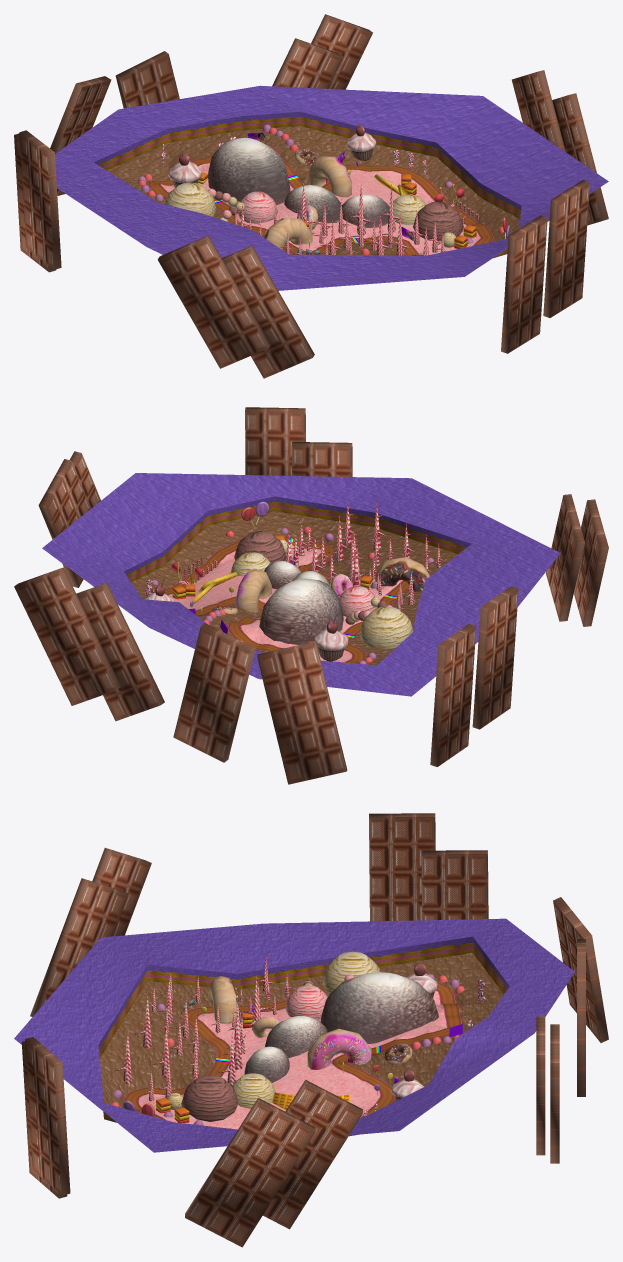
The picture shows the model from 3 angles, top to bottom: view 1: azimuth 30°, elevation 25°; view 2: azimuth 150°, elevation 25°; view 3: azimuth 270°, elevation 25°; orthographic projection. The views are drawn at different scales.
Parts seen in each view (by area): view 1: Schokolade, GlasurBlau, FlaecheAussen, _2b10d930, KuchenWand, Pink2, f8a1604b, Strasse, EisVanille, EisSchoko, DonutPink, Donut (+3 smaller); view 2: Schokolade, GlasurBlau, FlaecheAussen, _2b10d930, KuchenWand, f8a1604b, Pink2, Strasse, EisVanille, DonutPink, Donut, EisSchoko (+2 smaller); view 3: Schokolade, GlasurBlau, FlaecheAussen, _2b10d930, KuchenWand, Pink2, f8a1604b, Strasse, EisVanille, DonutPink, EisSchoko, Donut (+3 smaller).
Part boxes in pixels (x1,y1,x2,y2): Schokolade: (14, 14, 608, 378); GlasurBlau: (55, 85, 608, 290); FlaecheAussen: (107, 126, 519, 258); _2b10d930: (208, 137, 389, 228); KuchenWand: (94, 111, 521, 254); Pink2: (161, 163, 480, 254); f8a1604b: (231, 181, 478, 255); Strasse: (148, 146, 493, 255); EisVanille: (165, 182, 455, 247); EisSchoko: (214, 191, 463, 241); DonutPink: (297, 156, 351, 229); Donut: (264, 149, 318, 250); Schokolade: (14, 407, 608, 784); GlasurBlau: (42, 473, 560, 696); FlaecheAussen: (131, 511, 457, 665); _2b10d930: (259, 561, 343, 644); KuchenWand: (124, 496, 471, 582); f8a1604b: (183, 500, 443, 610); Pink2: (169, 544, 402, 662); Strasse: (164, 536, 409, 663); EisVanille: (230, 539, 412, 649); DonutPink: (235, 569, 352, 612); Donut: (211, 557, 429, 614); EisSchoko: (234, 531, 386, 624); Schokolade: (21, 813, 608, 1247); GlasurBlau: (14, 918, 574, 1152); FlaecheAussen: (99, 953, 503, 1107); _2b10d930: (244, 972, 438, 1082); KuchenWand: (98, 936, 509, 1136); Pink2: (139, 991, 446, 1129); f8a1604b: (114, 956, 293, 1128); Strasse: (123, 981, 461, 1120); EisVanille: (167, 951, 379, 1109); DonutPink: (252, 1017, 371, 1069); EisSchoko: (181, 980, 345, 1121); Donut: (208, 976, 412, 1064).
Bounding box in the file's own units: 128064 × 42602 × 121234.
32 materials, 32 textured.
